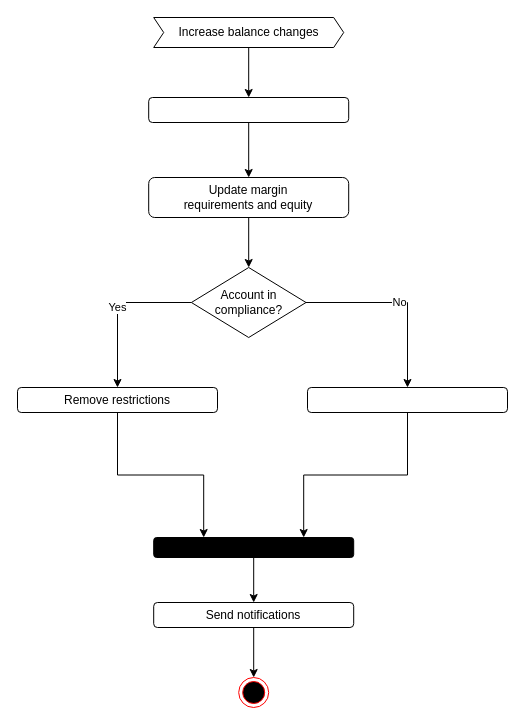
This 525x725 diagram has some shape labels left out. Each missing label, with the centre of its shape:
Apply restrictions: [407,399]
Get latest quotes for positions: [248,109]
